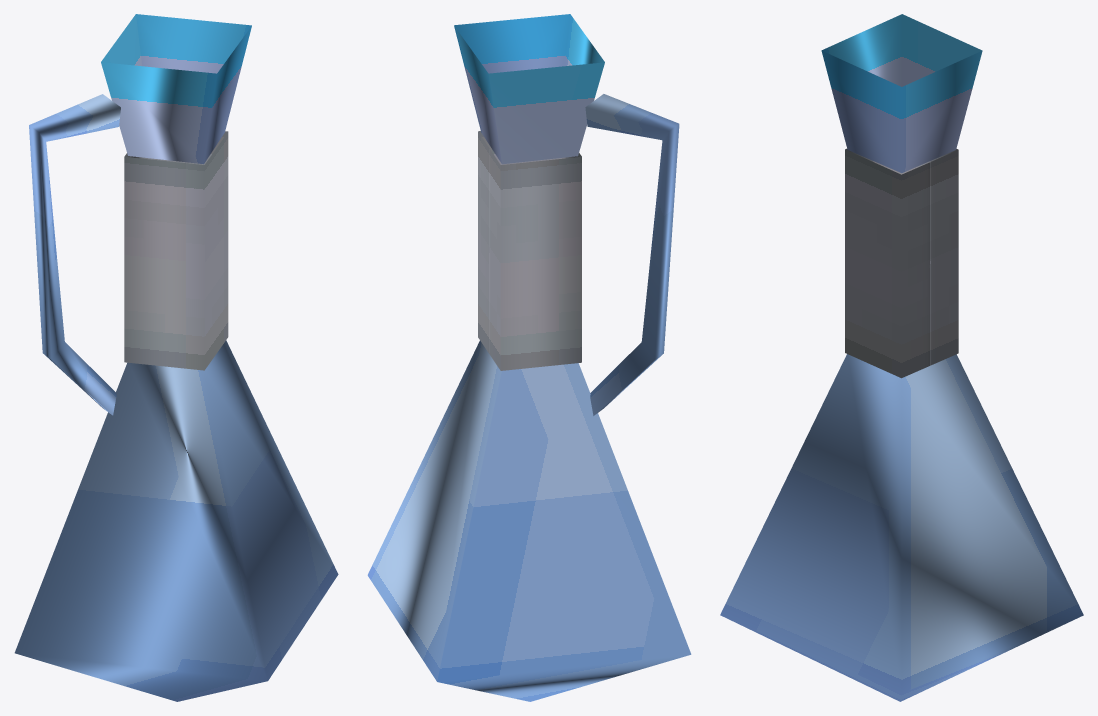
File: edb_con_tankard_full_l3.fbx
3 renders of one model, left to right at view 1: azimuth 30°, elevation 25°; view 2: azimuth 150°, elevation 25°; view 3: azimuth 270°, elevation 25°, orthographic.
Visible parts, largest first — view 1: mesh_node; view 2: mesh_node; view 3: mesh_node.
Boxes of the visible parts, x1,y1,x2,y2 form: mesh_node: [14, 14, 338, 701]; mesh_node: [367, 14, 691, 701]; mesh_node: [720, 14, 1083, 701].
Bounding box in the file's own units: 0.1846 × 0.3582 × 0.1814.
